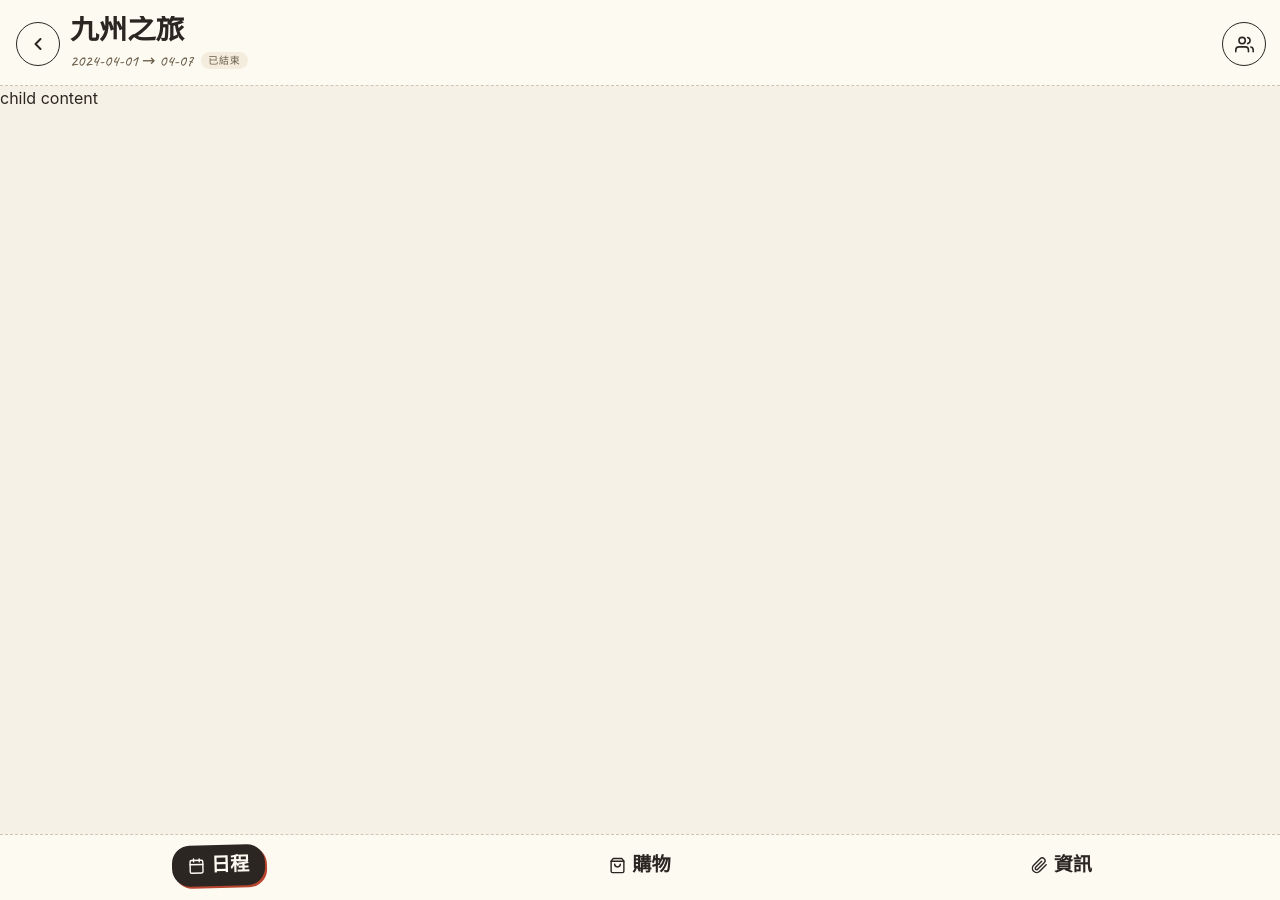
Test: TripView 的成員按鈕 › 打開成員面板
Click the button named "成員": (1244, 44) top-left (1222, 22), bottom-right (1266, 66)
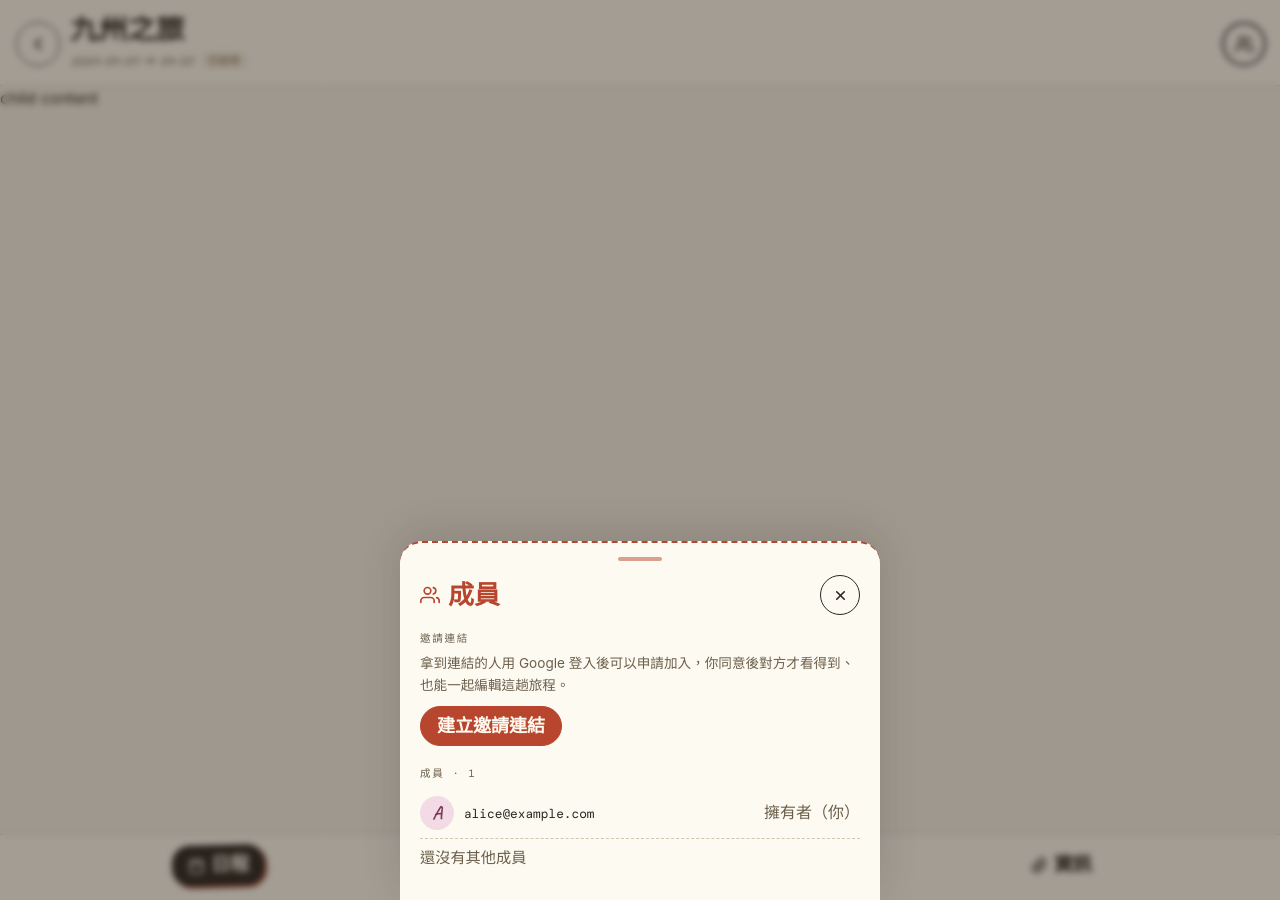
Now the dialog "成員" is shown, box top-left (400, 541), bottom-right (880, 899)
Now the button "建立邀請連結" is shown, box top-left (420, 706), bottom-right (562, 746)
